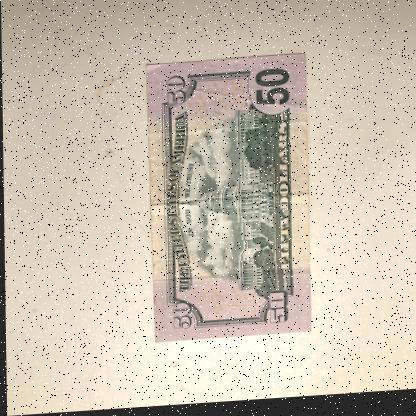dollar_back: (143, 57, 310, 346)
